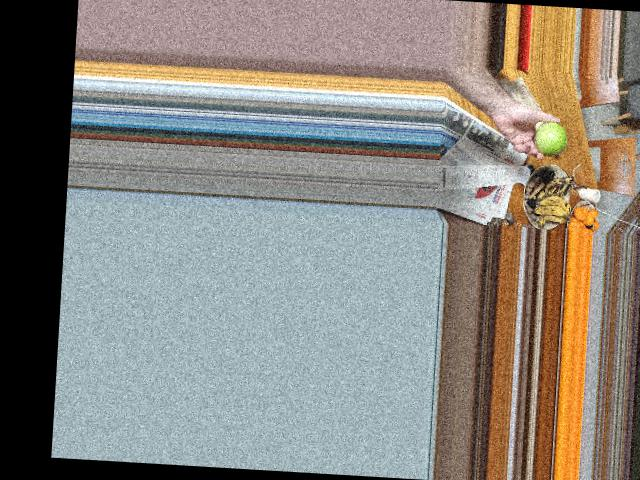apple: (532, 122, 574, 156)
